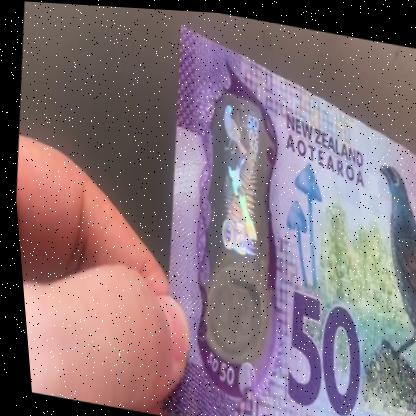50B: (189, 96, 281, 344)
